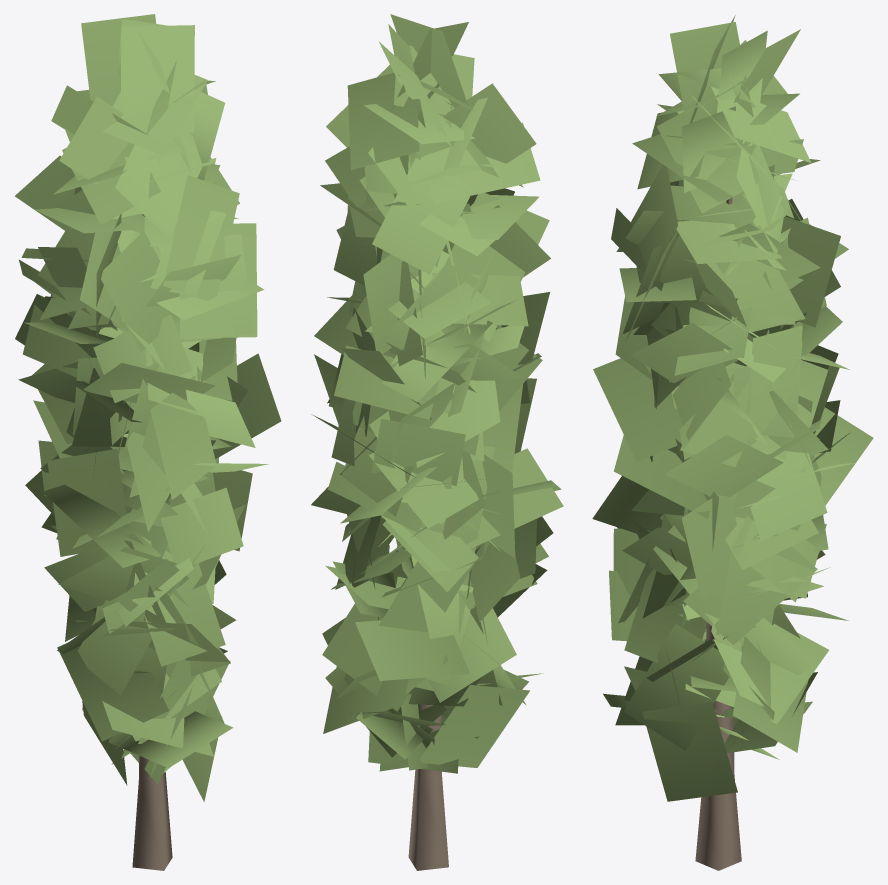
The model's file is Poplar_1_lod2.glb.
3 views of the same model, side by side, from view 1: azimuth 30°, elevation 25°; view 2: azimuth 150°, elevation 25°; view 3: azimuth 270°, elevation 25° (orthographic).
Parts seen in each view (by area): view 1: Poplar_1_lod2; view 2: Poplar_1_lod2; view 3: Poplar_1_lod2.
Boxes of the visible parts, x1,y1,x2,y2 form: Poplar_1_lod2: (15, 14, 281, 870); Poplar_1_lod2: (311, 14, 563, 870); Poplar_1_lod2: (592, 15, 873, 870).
Size of the model in its own units: 6.41 by 22.68 by 6.92.
